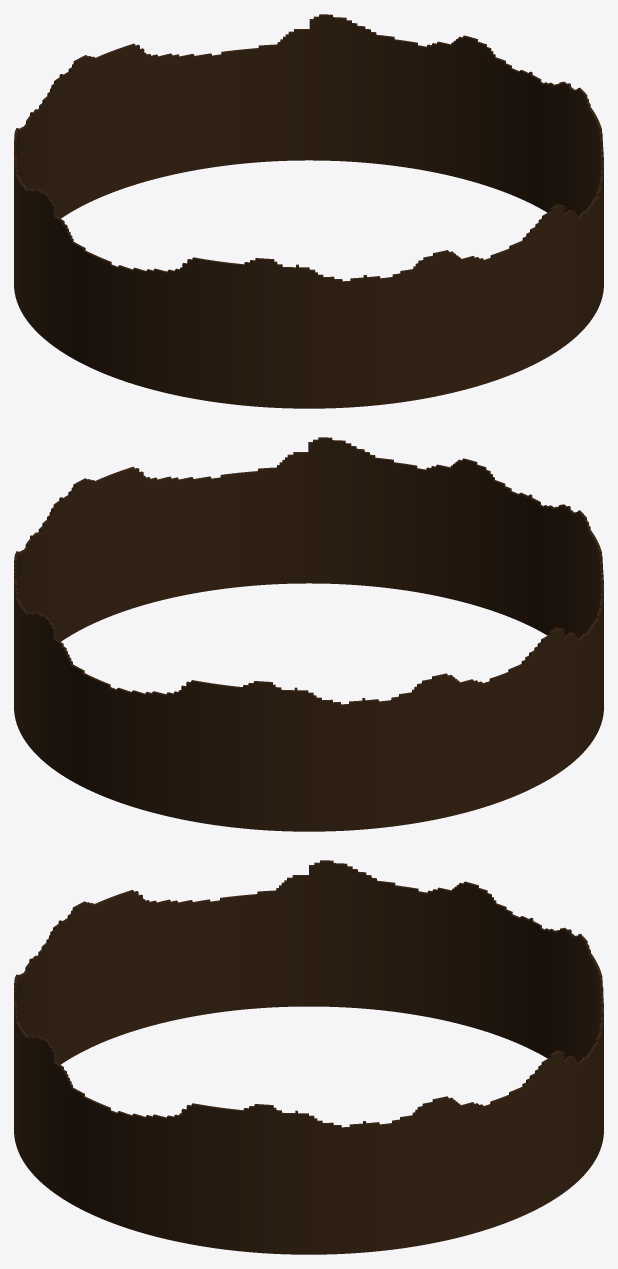
File: MOUNTAINS_A.fbx
The picture shows the model from 3 angles, top to bottom: view 1: azimuth 30°, elevation 25°; view 2: azimuth 150°, elevation 25°; view 3: azimuth 270°, elevation 25°; orthographic projection.
Visible parts, largest first — view 1: MOUNTAINS_A; view 2: MOUNTAINS_A; view 3: MOUNTAINS_A.
Boxes of the visible parts, box(x1,y1,x2,y2) form: MOUNTAINS_A: box(14, 14, 603, 408); MOUNTAINS_A: box(14, 437, 603, 831); MOUNTAINS_A: box(14, 860, 603, 1254).
Size of the model in its own units: 8330 by 2300 by 8330.
